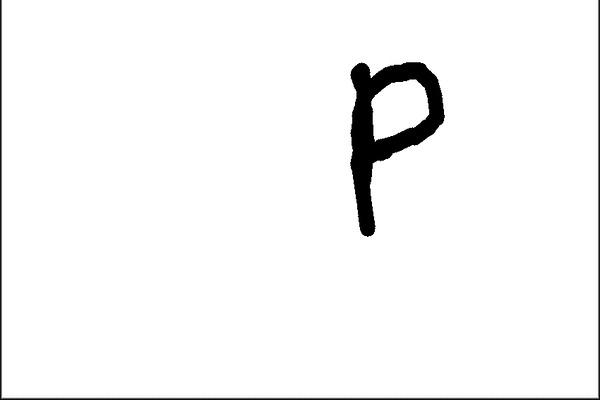P: (329, 48, 457, 250)
